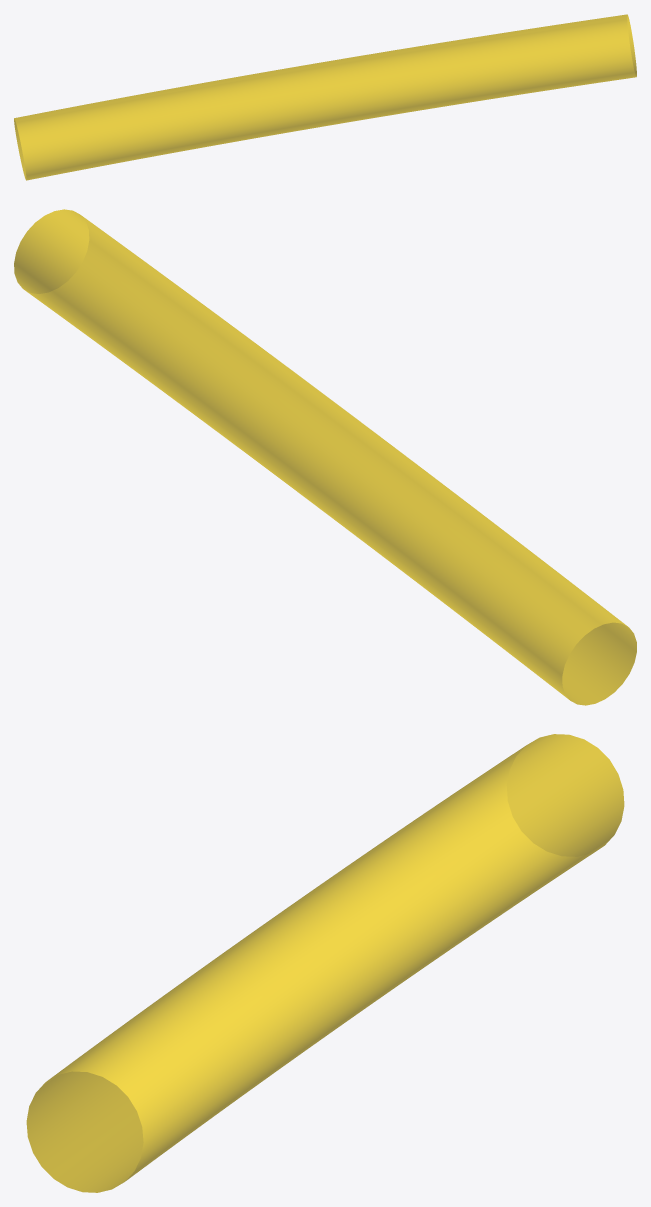
File: Event_100608114_track_33.fbx
3 renders of one model, top to bottom at view 1: azimuth 30°, elevation 25°; view 2: azimuth 150°, elevation 25°; view 3: azimuth 270°, elevation 25°, orthographic. The views are drawn at different scales.
Visible parts, largest first — view 1: Model; view 2: Model; view 3: Model.
Part boxes in pixels (x1,y1,x2,y2): Model: [14, 14, 636, 180]; Model: [14, 209, 636, 705]; Model: [26, 734, 624, 1192].
Bounding box in the file's own units: 0.3726 × 0.0892 × 0.1877.
